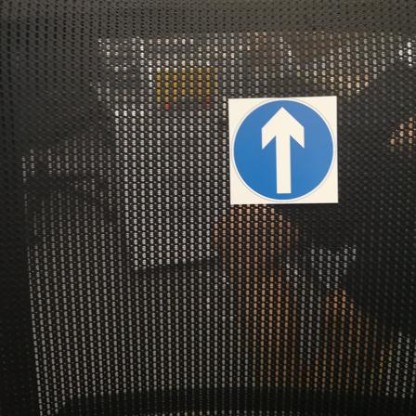forward: (223, 93, 339, 204)
